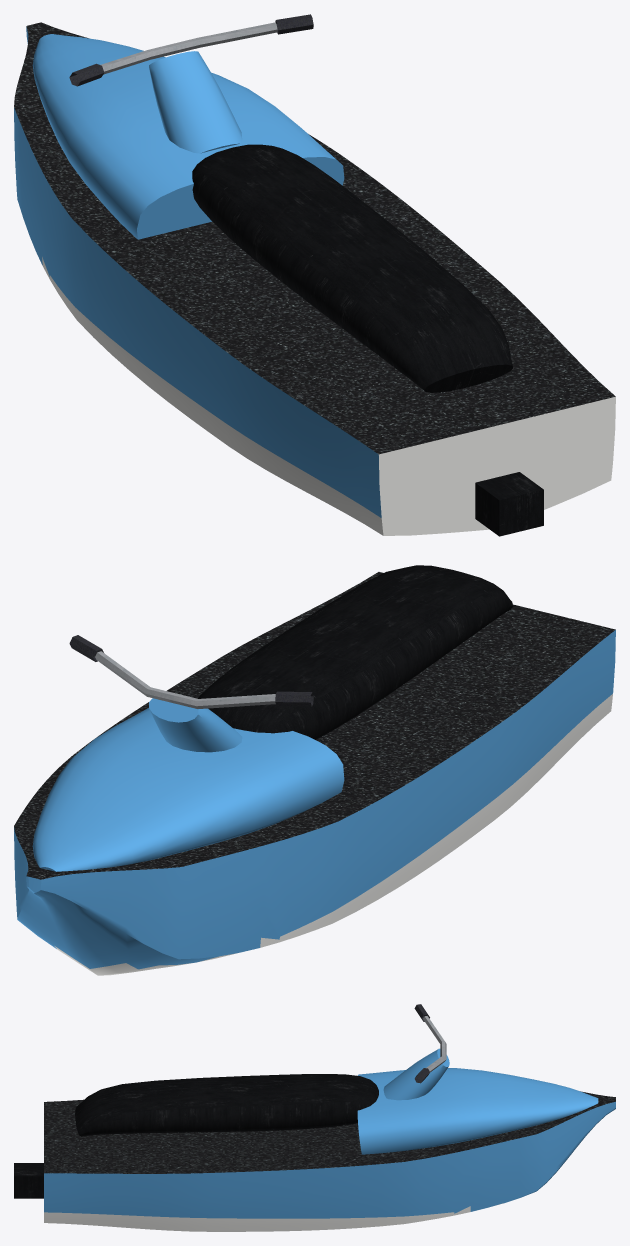
File: boat_jetski.gltf
The picture shows the model from 3 angles, top to bottom: view 1: azimuth 30°, elevation 25°; view 2: azimuth 150°, elevation 25°; view 3: azimuth 270°, elevation 25°; orthographic projection. The views are drawn at different scales.
Parts seen in each view (by area): view 1: boat_jetski; view 2: boat_jetski; view 3: boat_jetski.
Boxes of the visible parts, x1,y1,x2,y2 form: boat_jetski: (14,14,615,536); boat_jetski: (14,565,615,975); boat_jetski: (14,1004,615,1231).
Size of the model in its own units: 1.14 by 1.1 by 3.42.
6 materials, 4 textured.
